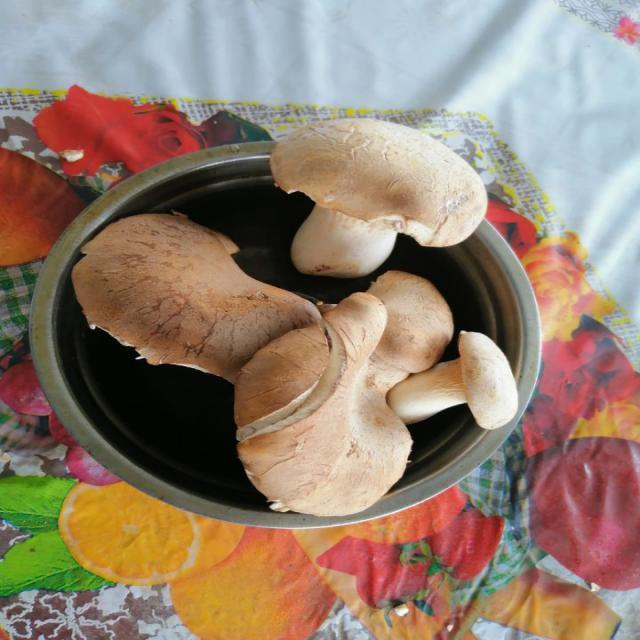Pleurotus cystidiosus: (74, 212, 323, 379), (230, 294, 413, 517), (267, 117, 490, 276), (391, 332, 518, 431)
